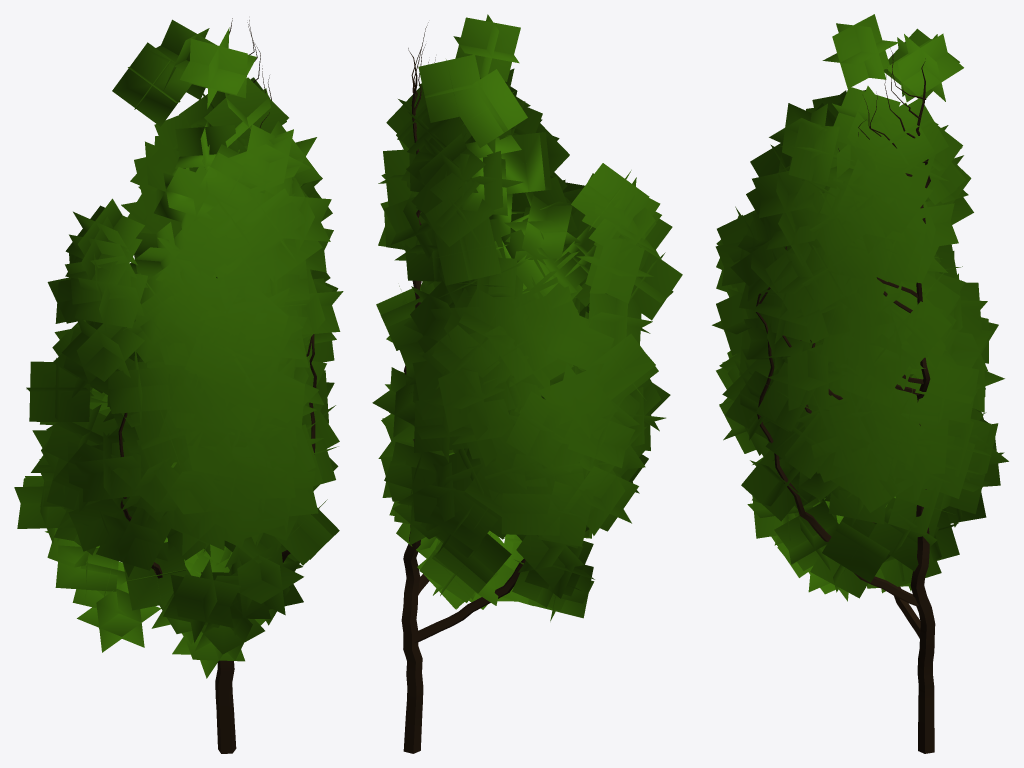
File: tree2_lod2.fbx
The picture shows the model from 3 angles, left to right: view 1: azimuth 30°, elevation 25°; view 2: azimuth 150°, elevation 25°; view 3: azimuth 270°, elevation 25°; orthographic projection. The views are drawn at different scales.
Parts seen in each view (by area): view 1: transform1; view 2: transform1; view 3: transform1.
Boxes of the visible parts, x1,y1,x2,y2 form: transform1: [14, 18, 343, 753]; transform1: [372, 14, 682, 753]; transform1: [712, 14, 1008, 753].
Size of the model in its own units: 375 by 958 by 364.
